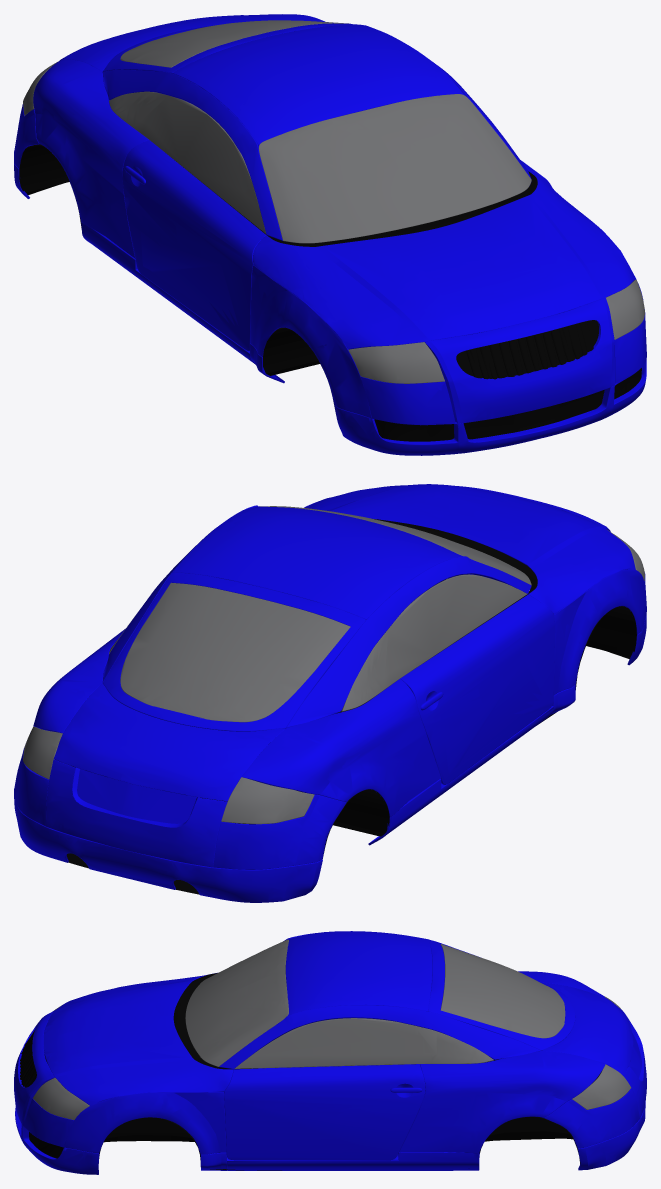
The model's file is CarMediumLOD.fbx.
The picture shows the model from 3 angles, top to bottom: view 1: azimuth 30°, elevation 25°; view 2: azimuth 150°, elevation 25°; view 3: azimuth 270°, elevation 25°; orthographic projection. The views are drawn at different scales.
Visible parts, largest first — view 1: Багажник, Крыша.001; view 2: Багажник, Крыша.001; view 3: Багажник, Крыша.001.
Boxes of the visible parts, box(x1,y1,x2,y2) form: Багажник: box(14, 14, 646, 455); Крыша.001: box(172, 25, 462, 145); Багажник: box(14, 484, 646, 902); Крыша.001: box(174, 506, 462, 619); Багажник: box(14, 931, 646, 1174); Крыша.001: box(285, 931, 432, 1014).
Bounding box in the file's own units: 176 × 115 × 404.
